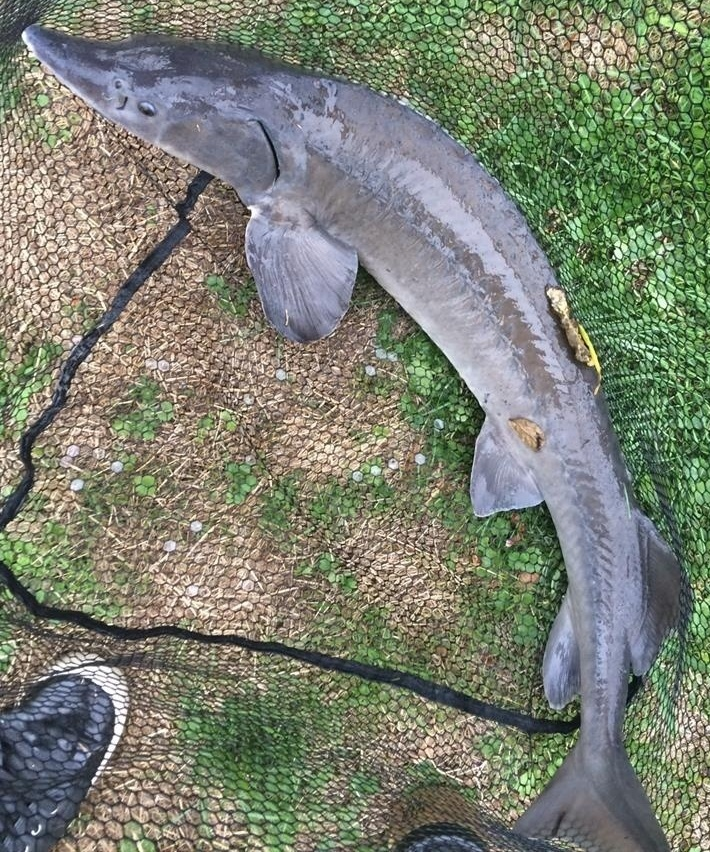Acipenseridae: (20, 20, 690, 852)
